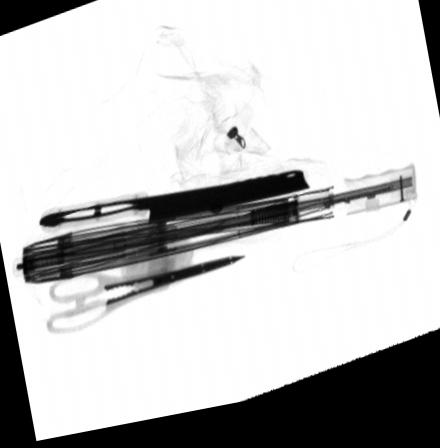Knife: (40, 182, 309, 230)
Scissors: (45, 264, 246, 337)
